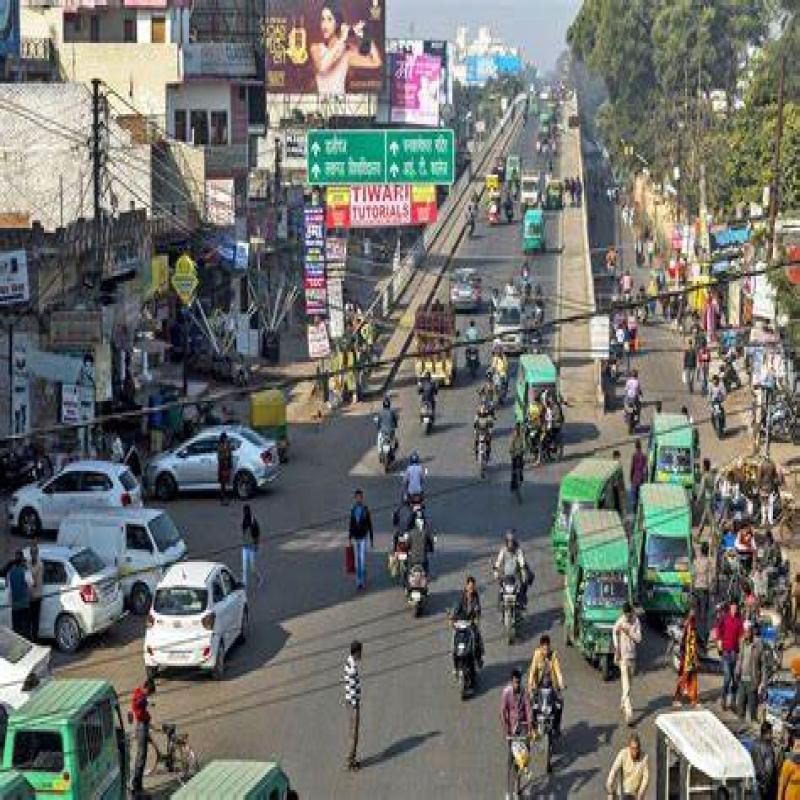car: (0, 590, 138, 800), (146, 550, 260, 685), (14, 450, 146, 548), (53, 499, 176, 600), (153, 400, 266, 499)
